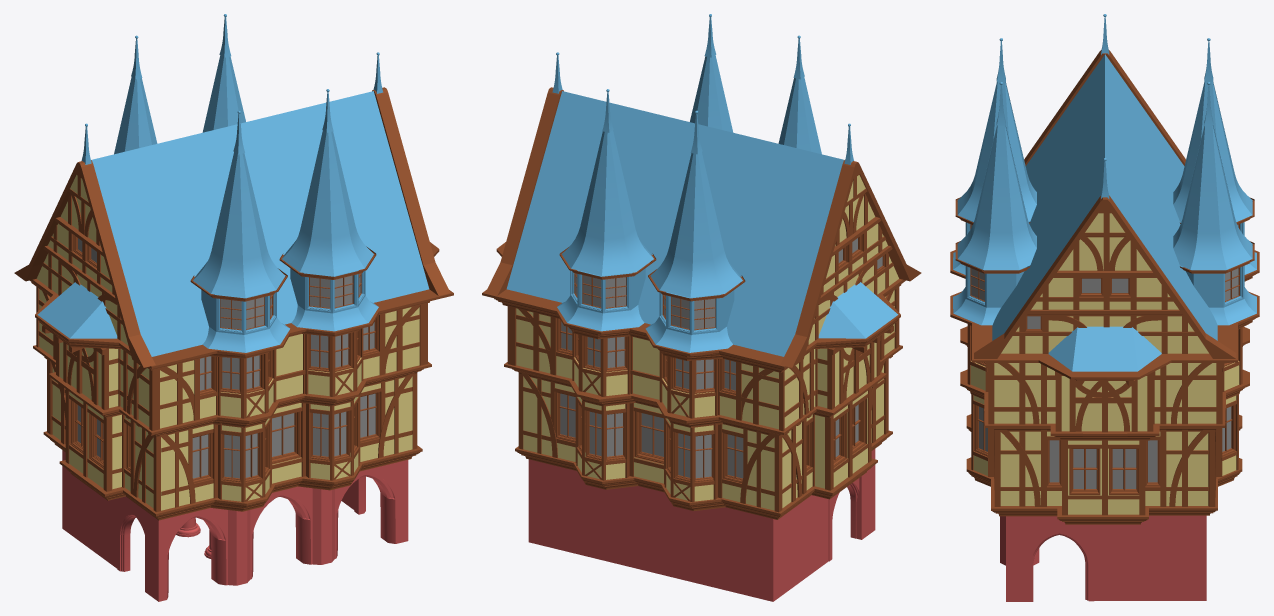
The model's file is muwu15.FBX.
The picture shows the model from 3 angles, left to right: view 1: azimuth 30°, elevation 25°; view 2: azimuth 150°, elevation 25°; view 3: azimuth 270°, elevation 25°; orthographic projection.
Parts seen in each view (by area): view 1: HouseLG06_RoofTiles, HouseLG06_Wood_Beams, HouseLG06_PlasterYellow, HouseLG06_Stone_Stacked, HouseLG06_Glass, HouseLG06_Mullions_Wood (×2); view 2: HouseLG06_RoofTiles, HouseLG06_Wood_Beams, HouseLG06_Stone_Stacked, HouseLG06_PlasterYellow, HouseLG06_Glass, HouseLG06_Mullions_Wood (×2); view 3: HouseLG06_RoofTiles, HouseLG06_Wood_Beams, HouseLG06_PlasterYellow, HouseLG06_Stone_Stacked, HouseLG06_Glass, HouseLG06_Mullions_Wood.
Boxes of the visible parts, x1,y1,x2,y2 form: HouseLG06_RoofTiles: (37, 14, 429, 356); HouseLG06_Wood_Beams: (14, 87, 453, 520); HouseLG06_PlasterYellow: (36, 175, 419, 510); HouseLG06_Stone_Stacked: (62, 450, 408, 601); HouseLG06_Glass: (77, 238, 375, 478); HouseLG06_Mullions_Wood (×2): (69, 235, 380, 483); HouseLG06_RoofTiles: (506, 14, 898, 356); HouseLG06_Wood_Beams: (482, 87, 921, 519); HouseLG06_Stone_Stacked: (528, 449, 875, 601); HouseLG06_PlasterYellow: (516, 175, 898, 510); HouseLG06_Glass: (560, 238, 882, 478); HouseLG06_Mullions_Wood (×2): (555, 234, 885, 483); HouseLG06_RoofTiles: (953, 14, 1256, 371); HouseLG06_Wood_Beams: (950, 50, 1259, 524); HouseLG06_PlasterYellow: (970, 213, 1239, 514); HouseLG06_Stone_Stacked: (1000, 515, 1206, 601); HouseLG06_Glass: (971, 224, 1238, 488); HouseLG06_Mullions_Wood: (970, 278, 1239, 495).
Size of the model in its own units: 24.22 by 29.51 by 17.25.
